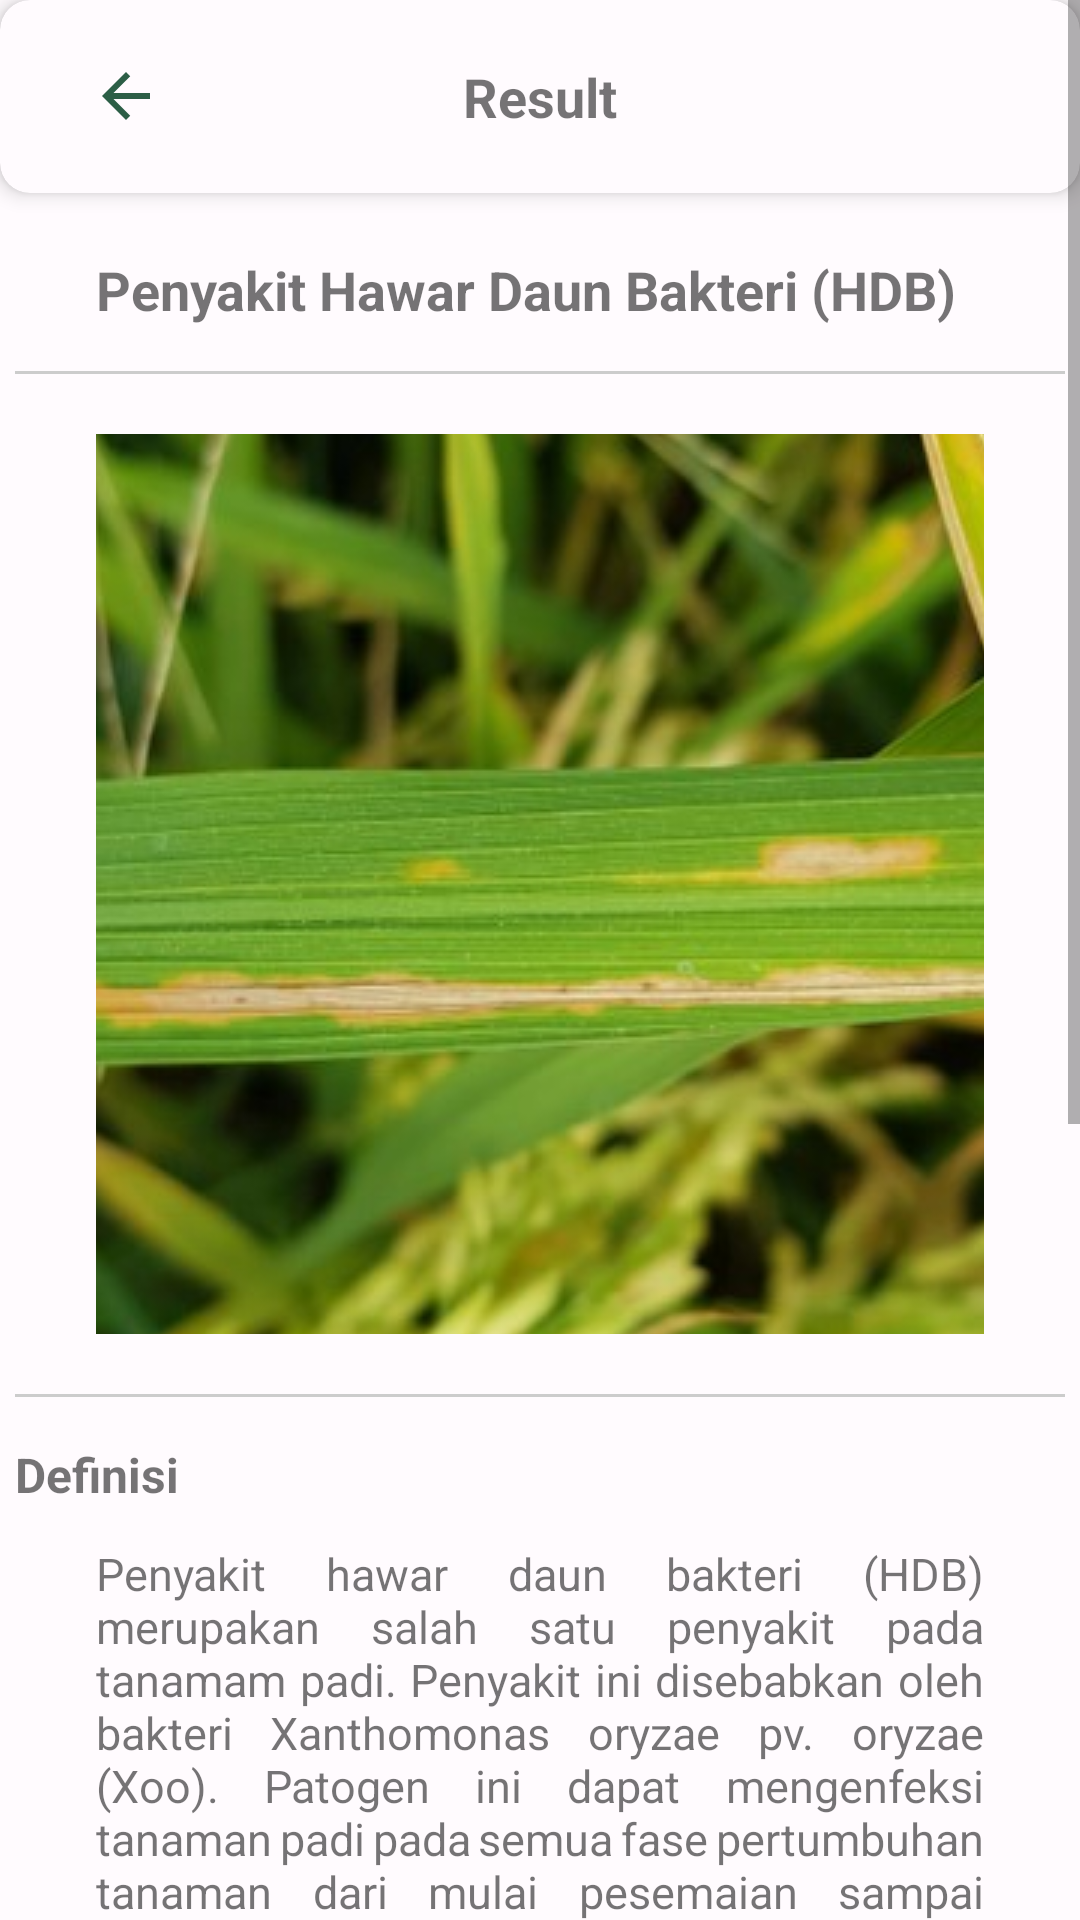

Point at icon controls on the screen. Image size 1080w x 1920h, points as point (x, y).
Back button: point (126, 96)
